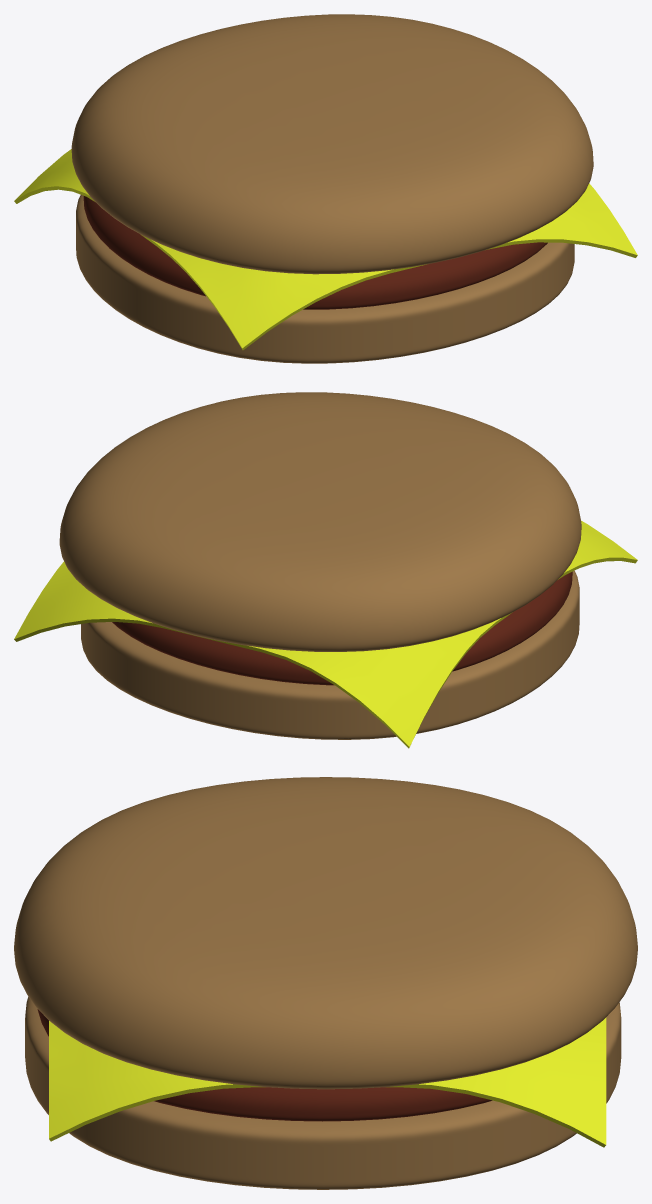
The model's file is FirstModel.glb.
3 renders of one model, top to bottom at view 1: azimuth 30°, elevation 25°; view 2: azimuth 150°, elevation 25°; view 3: azimuth 270°, elevation 25°, orthographic. The views are drawn at different scales.
Parts seen in each view (by area): view 1: Cube.002, Cube, Plane, Cube.001; view 2: Cube.002, Cube, Plane, Cube.001; view 3: Cube.002, Cube, Plane, Cube.001.
Boxes of the visible parts, bbox=[...] form: Cube.002: bbox=[71, 14, 593, 274]; Cube: bbox=[76, 195, 574, 363]; Plane: bbox=[14, 149, 637, 350]; Cube.001: bbox=[83, 196, 547, 309]; Cube.002: bbox=[59, 392, 581, 651]; Cube: bbox=[81, 570, 579, 739]; Plane: bbox=[14, 520, 637, 748]; Cube.001: bbox=[112, 571, 572, 685]; Cube.002: bbox=[14, 777, 637, 1089]; Cube: bbox=[25, 997, 621, 1189]; Plane: bbox=[49, 1017, 606, 1147]; Cube.001: bbox=[37, 1009, 492, 1121].
Bounding box in the file's own units: 9.92 × 3.66 × 9.92.
